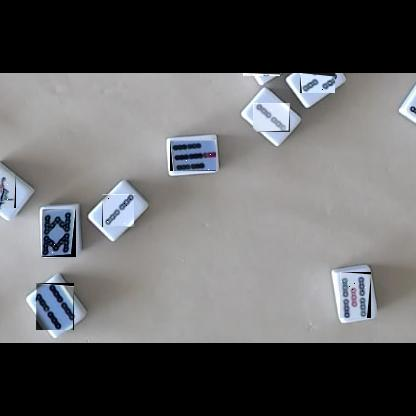1s: (0, 172, 16, 208)
2s: (253, 103, 290, 132), (102, 194, 134, 227)
3s: (300, 73, 335, 93)
4s: (36, 283, 74, 330), (243, 73, 280, 76)
5s: (340, 272, 371, 318)
7s: (170, 140, 216, 171)
8s: (42, 209, 76, 257)
